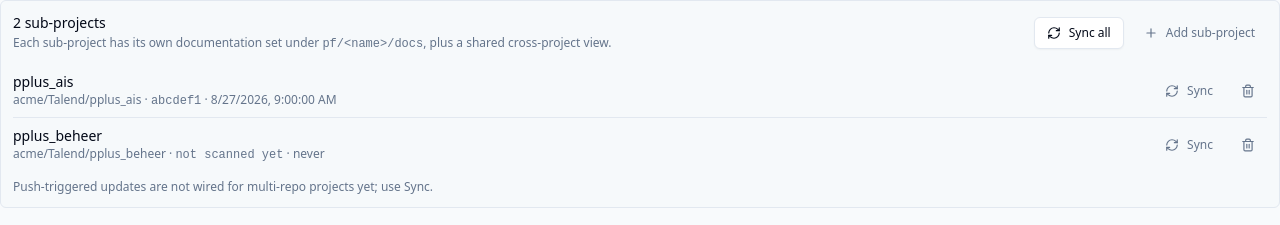
it: MultiRepoMembersPanel › reports what changed and stays quiet about untouched siblings
Expected: the text "pplus_ais" is shown, [13,72,74,91]
Click the button "Sync all": (1079, 32) [1034,16,1124,48]
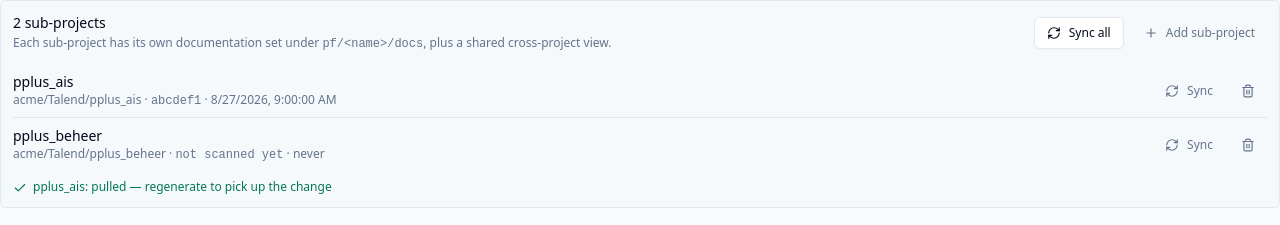
Expected: the text "pplus_ais: pulled — regenerate to pick up the change" is shown, [33,179,332,195]
